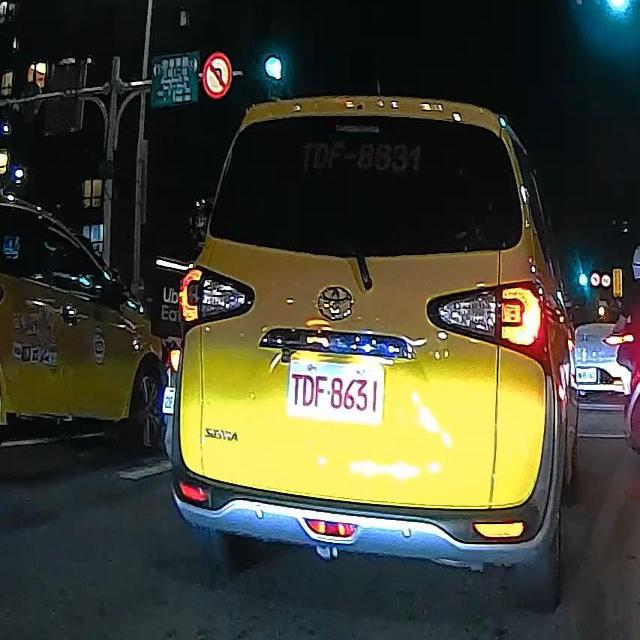license-plate: (285, 360, 385, 426)
